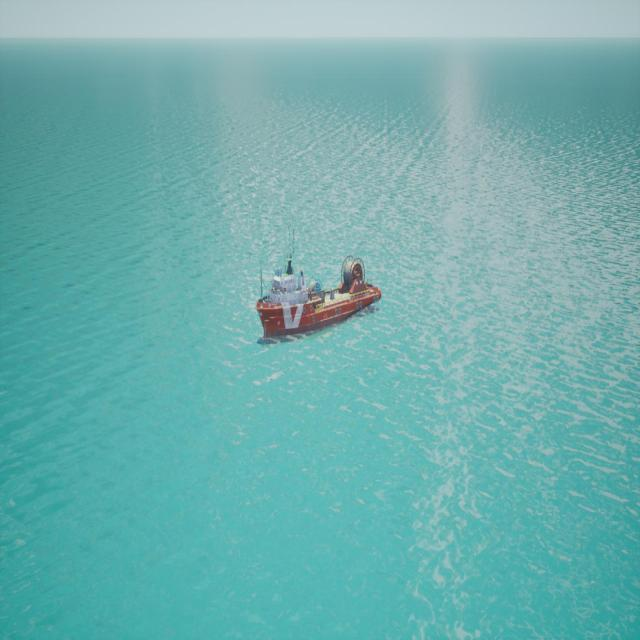tug boat: (255, 260, 384, 344)
